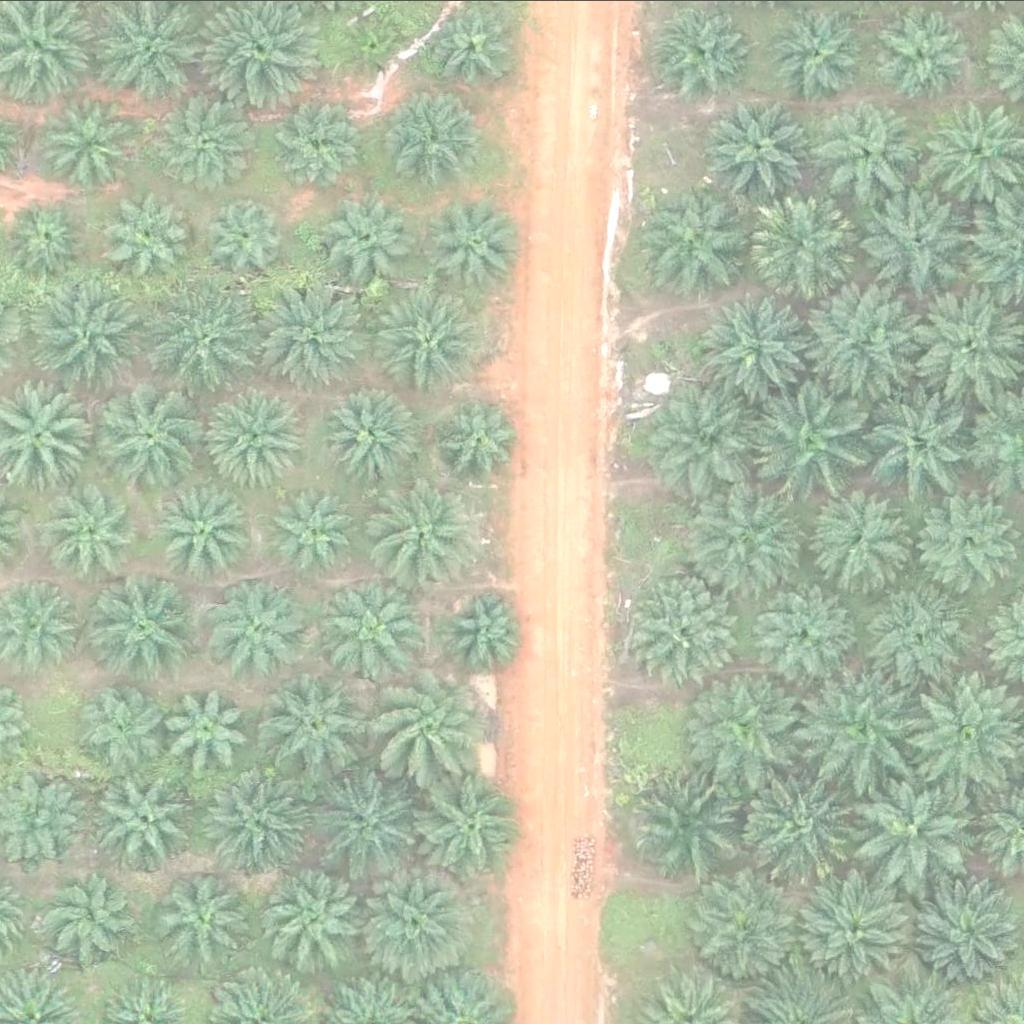Kelapa_Sawit: (371, 658, 497, 783), (636, 184, 750, 297), (700, 286, 814, 399), (909, 286, 1023, 399), (854, 773, 968, 886), (31, 272, 145, 385), (750, 188, 863, 301), (814, 290, 927, 403), (751, 380, 864, 493), (632, 573, 745, 686), (693, 675, 806, 788), (689, 872, 802, 985), (793, 871, 906, 984), (208, 766, 321, 879), (309, 766, 422, 879), (416, 770, 529, 883), (816, 100, 930, 212), (860, 186, 974, 298), (689, 477, 803, 589), (372, 285, 486, 397), (864, 387, 977, 499), (652, 383, 765, 495), (860, 583, 973, 695), (808, 673, 921, 785), (629, 764, 742, 876), (740, 771, 853, 883), (150, 282, 263, 394), (262, 274, 375, 386), (94, 380, 207, 492), (368, 470, 481, 582), (260, 671, 373, 783), (364, 862, 477, 974), (654, 2, 755, 102), (712, 99, 813, 199), (805, 487, 906, 587), (746, 585, 847, 685), (385, 86, 486, 186), (429, 192, 530, 292), (320, 381, 421, 481), (45, 476, 146, 576), (156, 480, 257, 580), (96, 576, 197, 676), (205, 579, 306, 679), (101, 763, 202, 863), (34, 865, 135, 965), (266, 869, 367, 969), (873, 4, 973, 104), (768, 1, 868, 101), (916, 488, 1016, 588), (203, 382, 303, 482), (328, 574, 428, 674), (160, 97, 248, 185), (111, 188, 199, 276), (205, 192, 293, 280), (443, 392, 531, 480), (426, 1, 515, 88), (271, 481, 360, 568), (56, 93, 144, 180), (276, 100, 364, 187), (8, 194, 96, 281), (322, 193, 410, 280), (443, 586, 531, 673), (79, 682, 167, 769), (167, 685, 255, 772), (162, 874, 250, 961), (344, 9, 407, 72)
